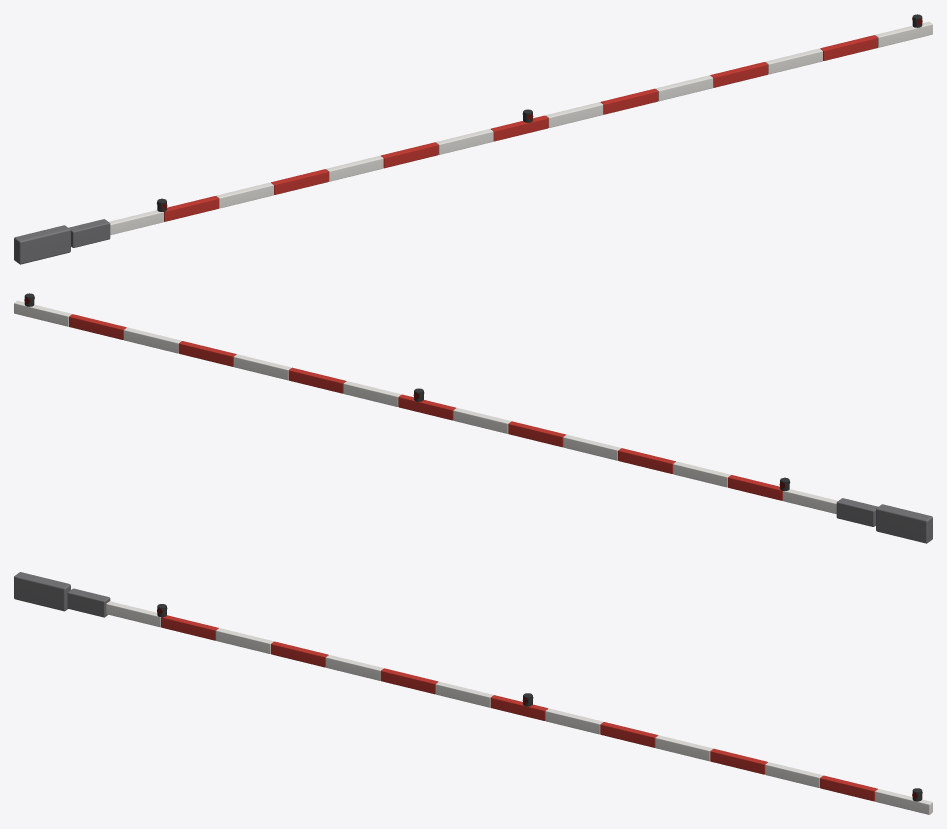
The model's file is rail.crossing.boom_9.glb.
3 renders of one model, top to bottom at view 1: azimuth 30°, elevation 25°; view 2: azimuth 150°, elevation 25°; view 3: azimuth 330°, elevation 25°, orthographic.
Visible parts, largest first — view 1: main__paint_eee, main__paint_c33, main__galv_777; view 2: main__paint_eee, main__paint_c33, main__galv_777; view 3: main__paint_eee, main__paint_c33, main__galv_777.
Boxes of the visible parts, box(x1,y1,x2,y2) form: main__paint_eee: box(109, 21, 932, 234); main__paint_c33: box(164, 35, 877, 221); main__galv_777: box(14, 219, 110, 264); main__paint_eee: box(14, 300, 837, 513); main__paint_c33: box(69, 314, 782, 500); main__galv_777: box(836, 498, 932, 543); main__paint_eee: box(106, 601, 932, 814); main__paint_c33: box(161, 615, 877, 801); main__galv_777: box(14, 572, 110, 617).
Size of the model in its own units: 9.75 by 0.275 by 0.12.
